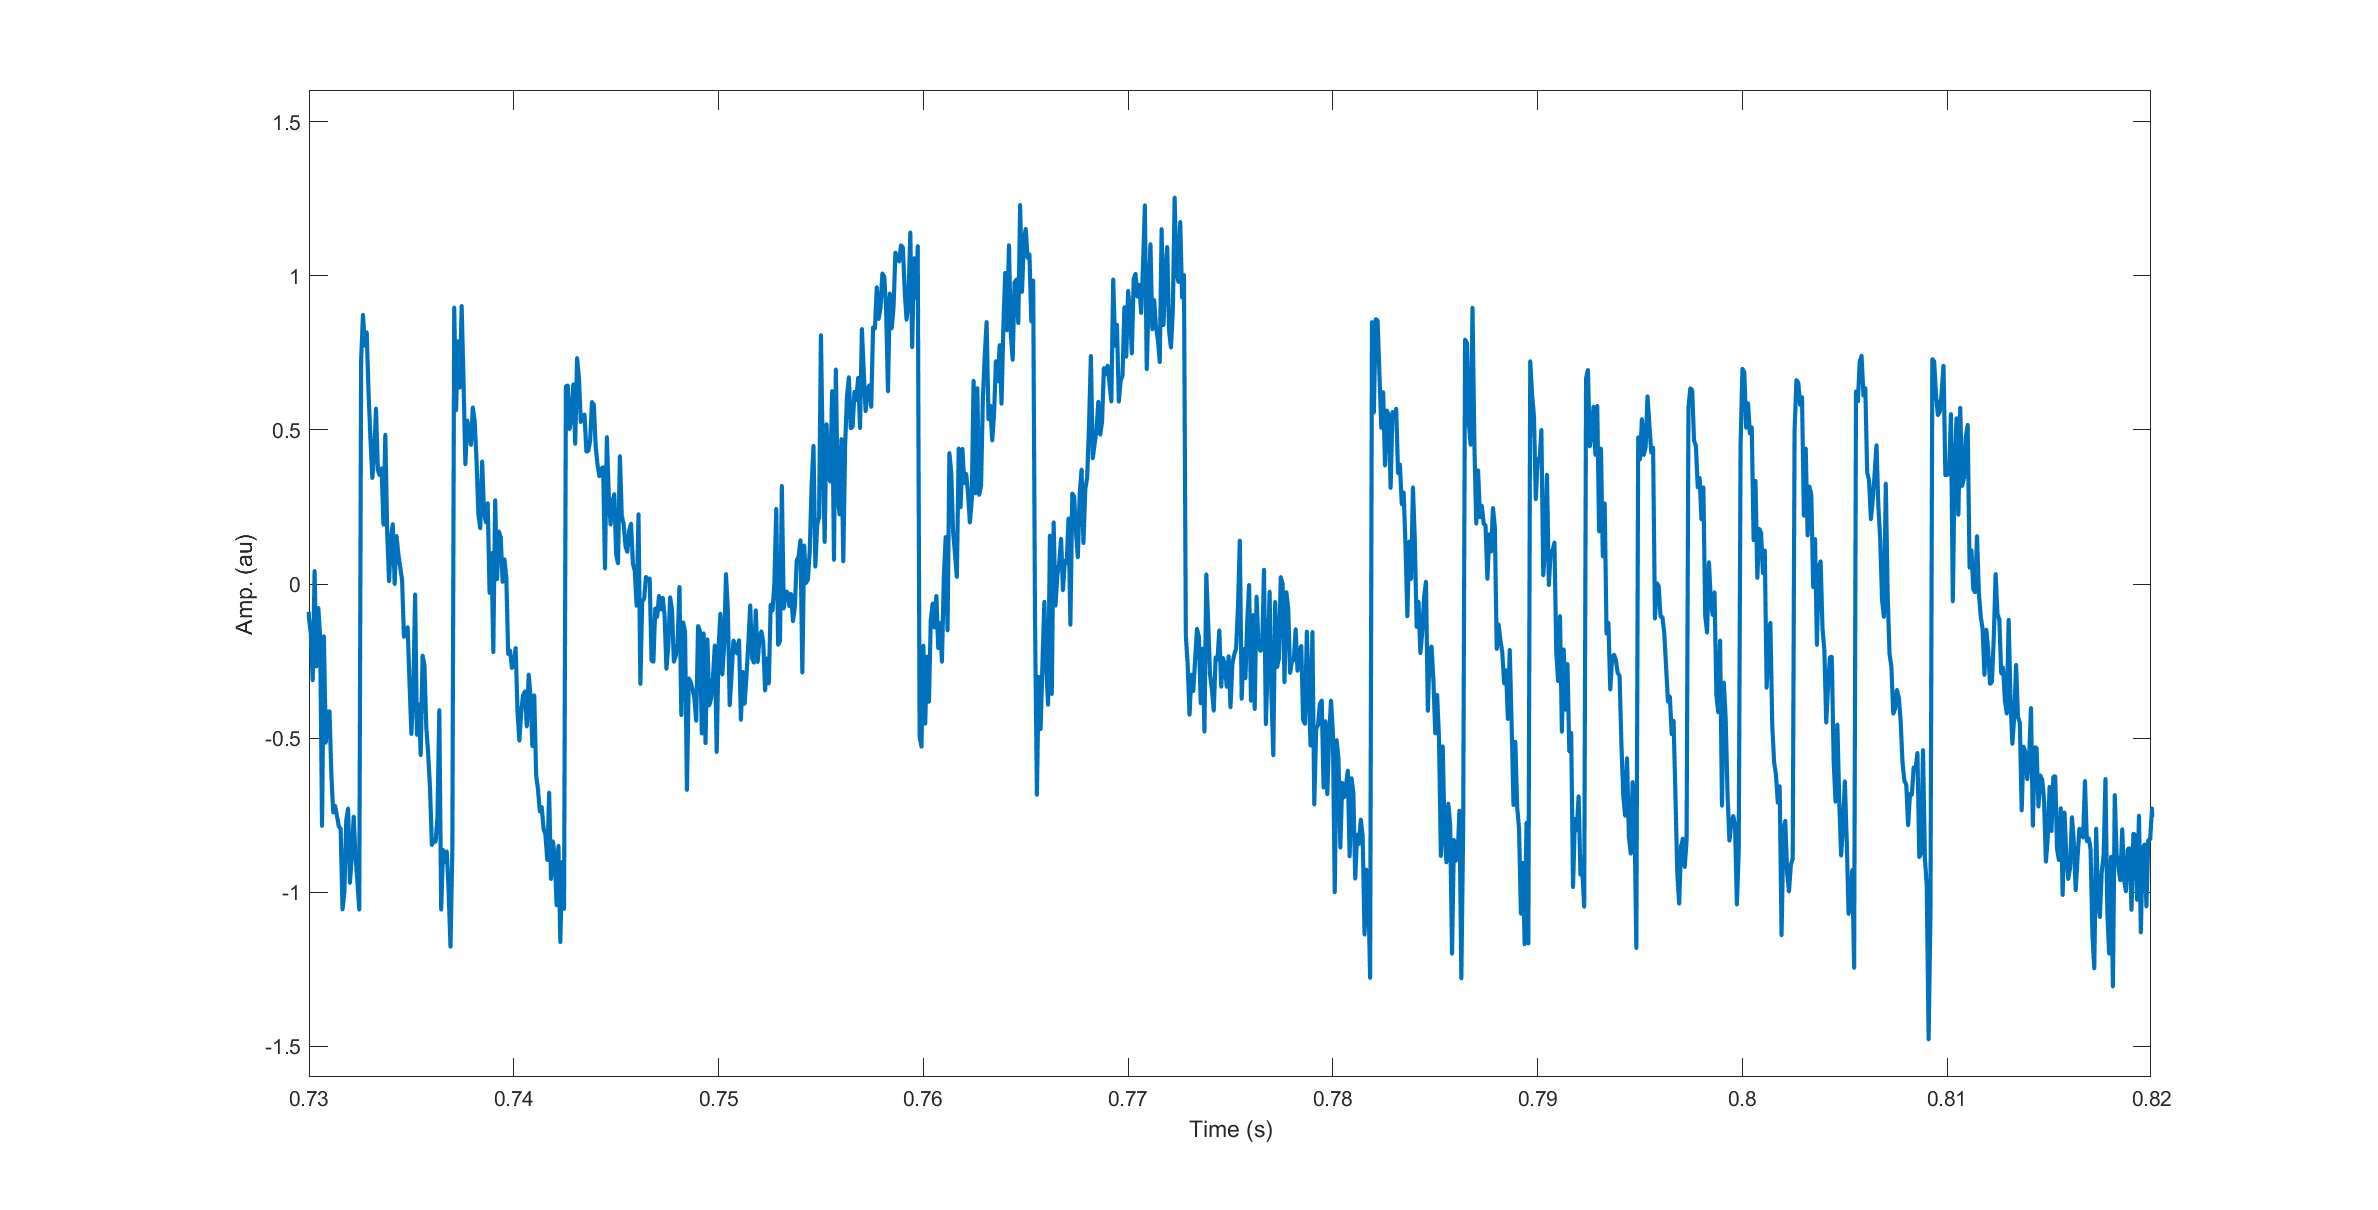negative_fringe: (1917, 344, 2074, 1048), (441, 275, 542, 949), (1356, 299, 1443, 992), (545, 352, 634, 938), (350, 298, 424, 898), (1844, 355, 1917, 968), (1451, 292, 1515, 975), (1776, 358, 1839, 943), (1514, 349, 1569, 943), (1625, 366, 1676, 962), (1576, 363, 1626, 898), (1731, 366, 1779, 915), (1679, 358, 1722, 892)
positive_fringe: (1063, 184, 1194, 711), (795, 213, 927, 715), (947, 194, 1045, 806)
